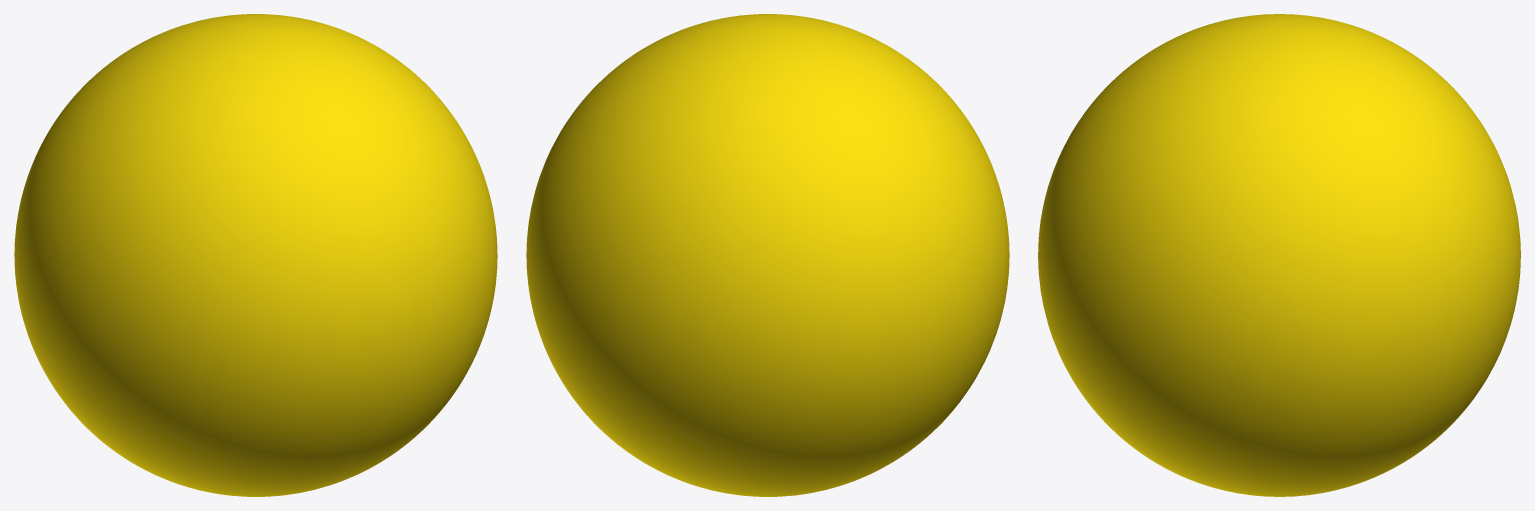
File: ball1.gltf
3 renders of one model, left to right at view 1: azimuth 30°, elevation 25°; view 2: azimuth 150°, elevation 25°; view 3: azimuth 270°, elevation 25°, orthographic.
Parts seen in each view (by area): view 1: ball; view 2: ball; view 3: ball.
Boxes of the visible parts, box(x1,y1,x2,y2) form: ball: box(14, 14, 497, 496); ball: box(526, 14, 1009, 496); ball: box(1038, 14, 1520, 496).
Size of the model in its own units: 200 by 200 by 200.
Materials: 1 (1 with a texture image).
